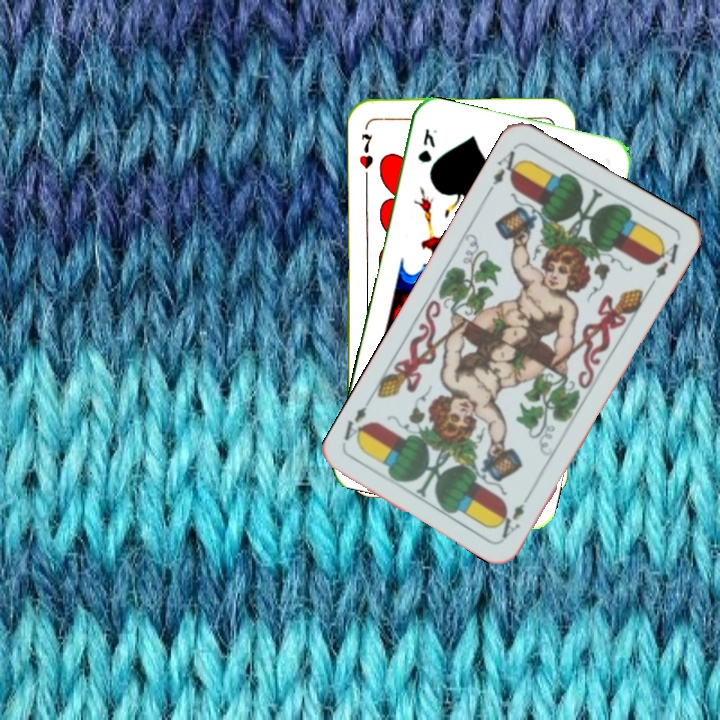EA: (483, 144, 526, 197), (498, 488, 535, 542)
GK: (414, 125, 438, 165)
H7: (355, 129, 376, 171)
